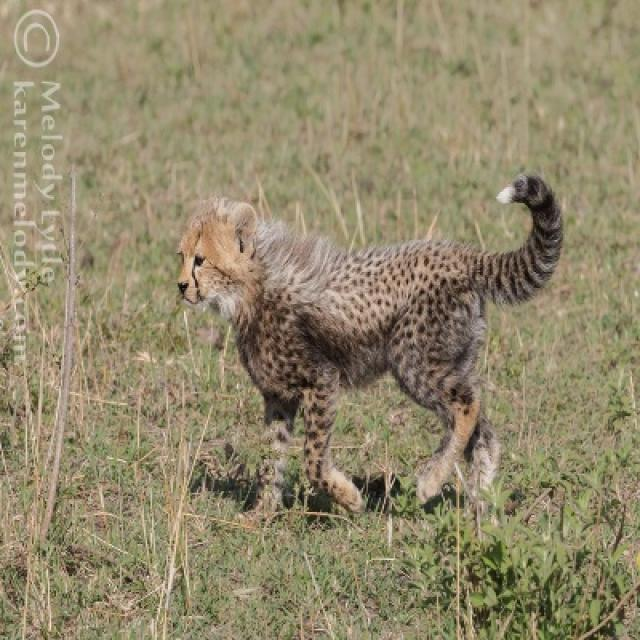Cheetah: (179, 174, 560, 510)
